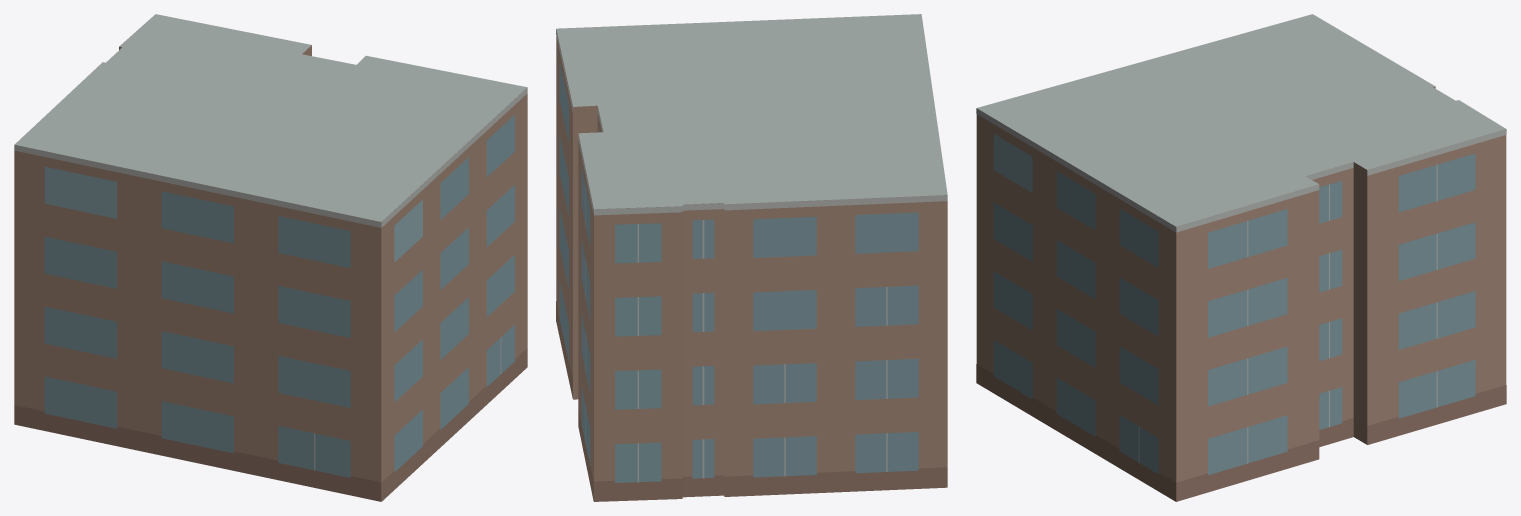
File: survey-upis-32496452.glb
3 renders of one model, left to right at view 1: azimuth 30°, elevation 25°; view 2: azimuth 150°, elevation 25°; view 3: azimuth 270°, elevation 25°, orthographic. The views are drawn at different scales.
Visible parts, largest first — view 1: survey-upis-32496452.tmp; view 2: survey-upis-32496452.tmp; view 3: survey-upis-32496452.tmp.
Boxes of the visible parts, box(x1,y1,x2,y2) form: survey-upis-32496452.tmp: box(14, 14, 527, 501); survey-upis-32496452.tmp: box(556, 14, 947, 501); survey-upis-32496452.tmp: box(976, 14, 1506, 501).
Bounding box in the file's own units: 19.26 × 11.6 × 20.27.
